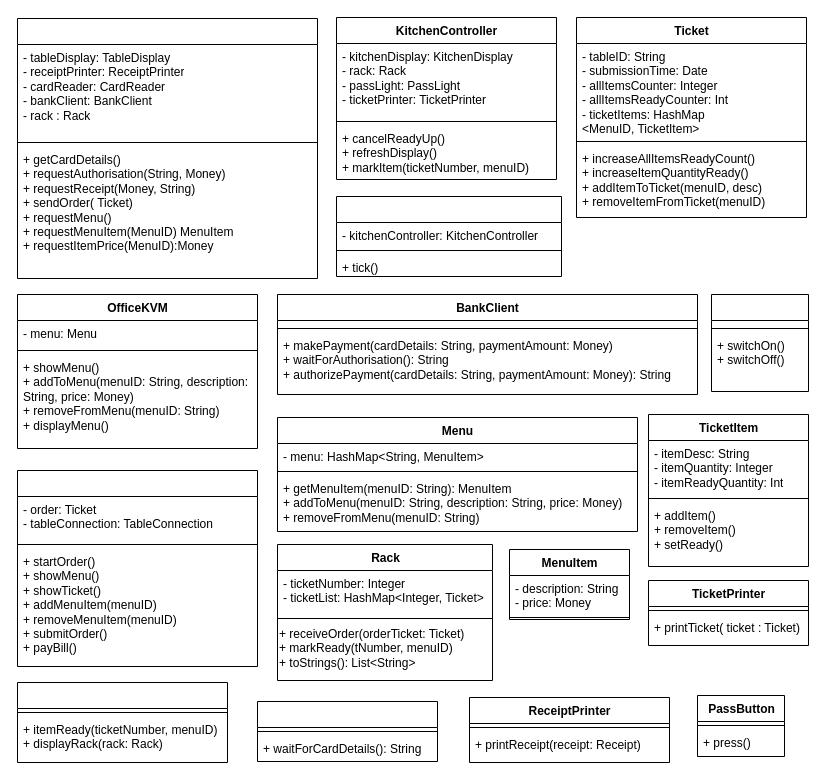
The diagram is 826 pixels wide and 783 high, and some of its shapes have lost their labels. Each missing label, with the box of its shape:
CardReader: (256, 700, 438, 762)
Clock: (336, 196, 562, 276)
KitchenDisplay: (16, 682, 228, 762)
PassLight: (710, 294, 808, 392)
TableConnection: (16, 18, 318, 278)
TableDisplay: (16, 470, 258, 666)
